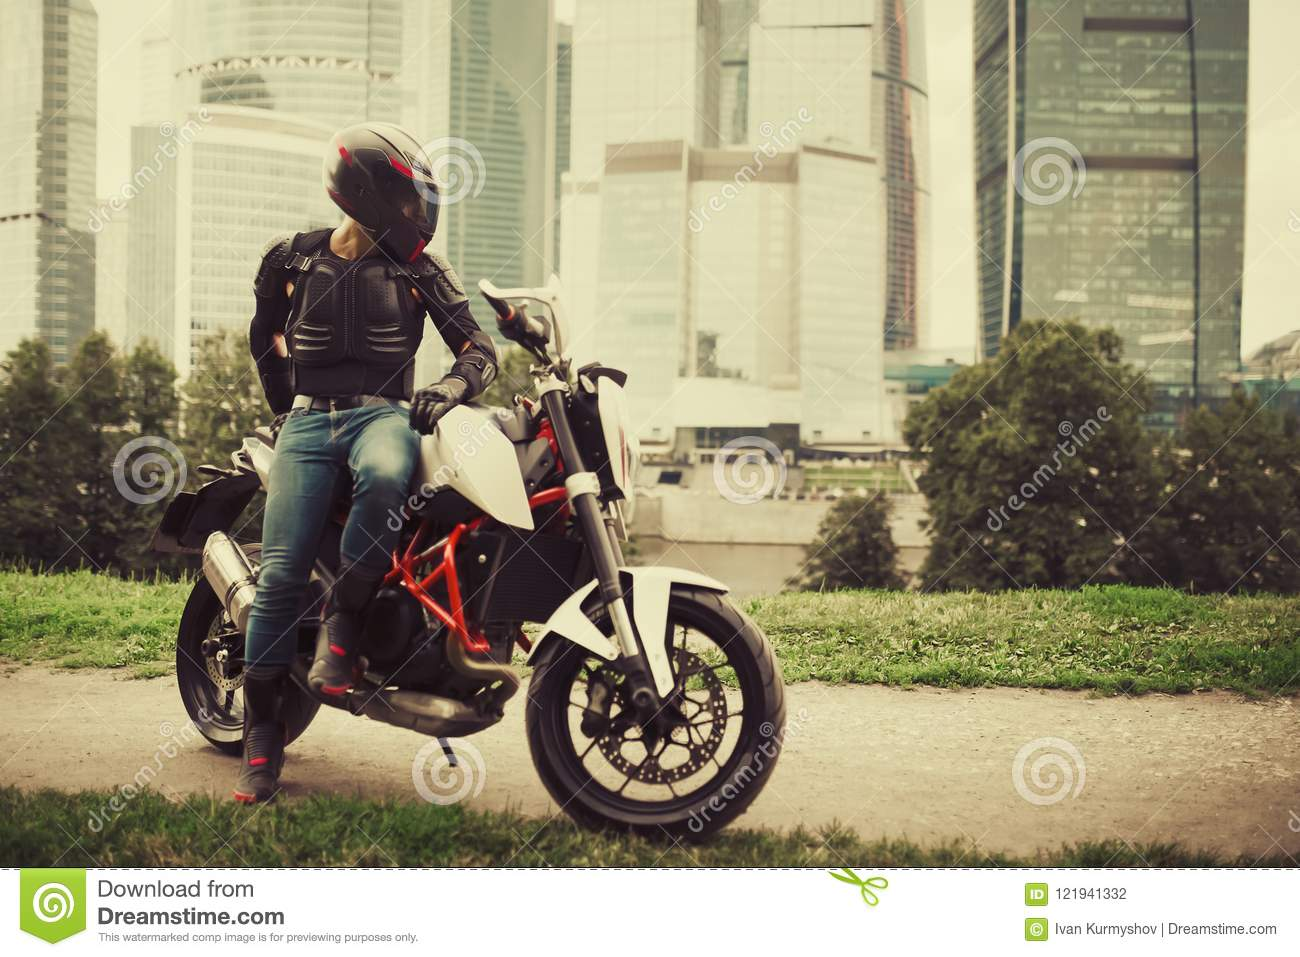helmet: (331, 121, 447, 254)
